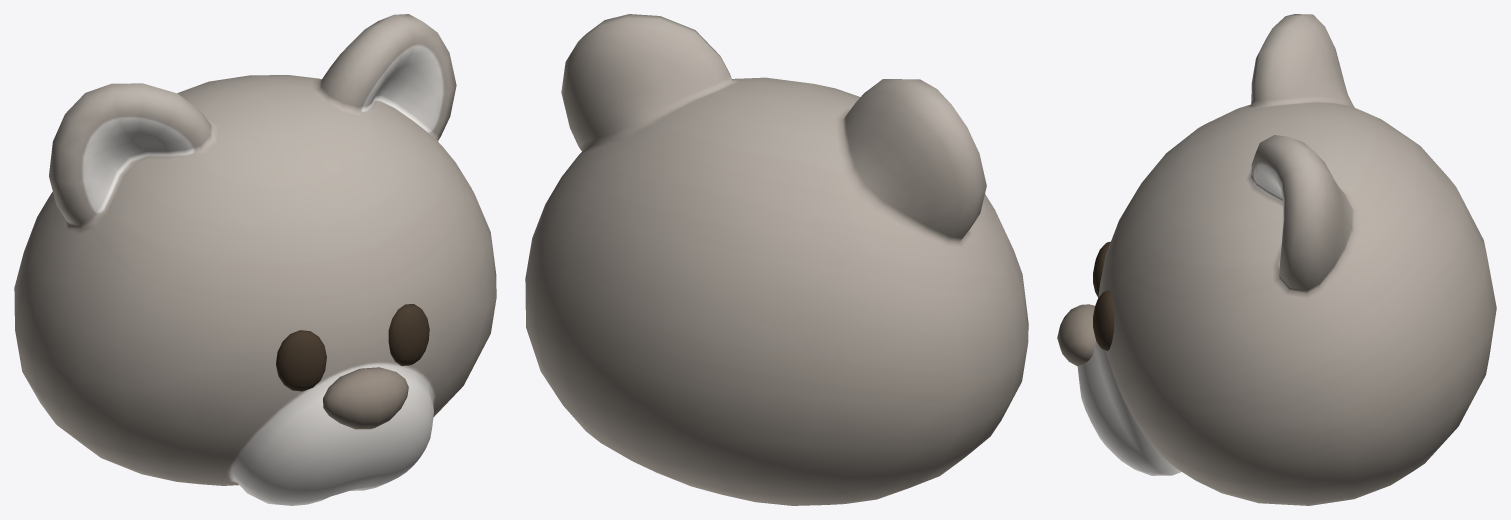
The picture shows the model from 3 angles, left to right: view 1: azimuth 30°, elevation 25°; view 2: azimuth 150°, elevation 25°; view 3: azimuth 270°, elevation 25°; orthographic projection. The views are drawn at different scales.
Visible parts, largest first — view 1: BearHead; view 2: BearHead; view 3: BearHead.
Boxes of the visible parts, box(x1,y1,x2,y2) form: BearHead: box(14, 14, 496, 505); BearHead: box(525, 14, 1028, 505); BearHead: box(1057, 14, 1496, 505).
Size of the model in its own units: 0.7836 by 0.6955 by 0.7155.
1 material, 1 textured.
